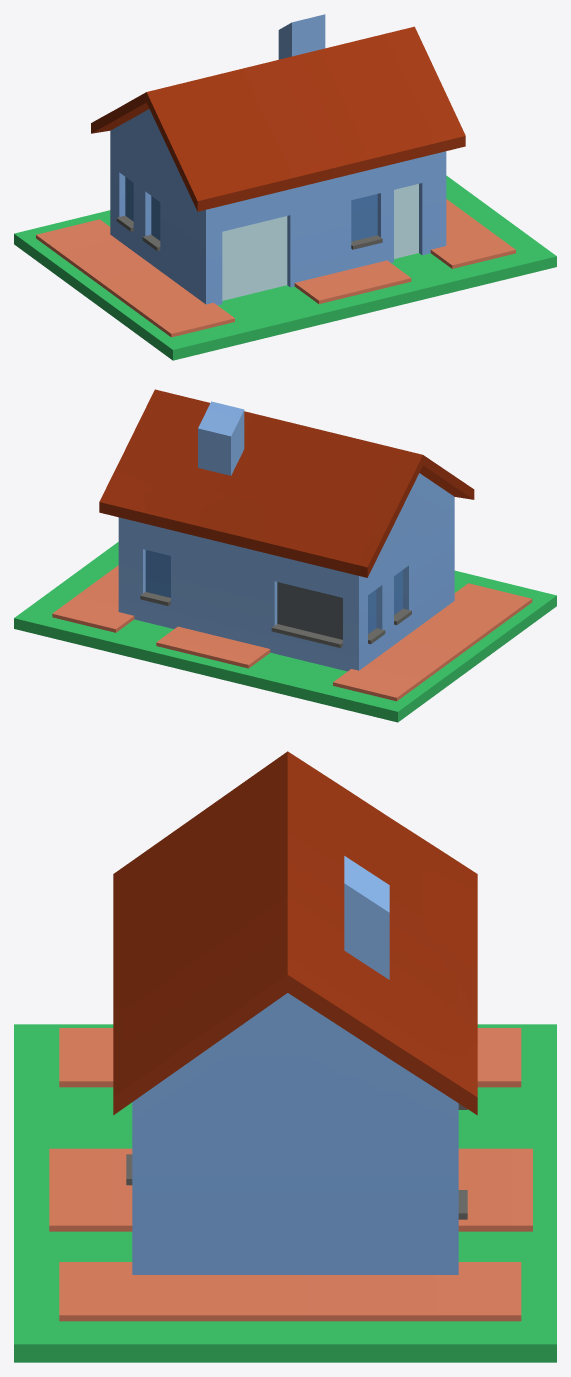
File: Outer House9.fbx
3 views of the same model, one above another, from view 1: azimuth 30°, elevation 25°; view 2: azimuth 150°, elevation 25°; view 3: azimuth 270°, elevation 25° (orthographic). The views are drawn at different scales.
Parts seen in each view (by area): view 1: Outer_House9; view 2: Outer_House9; view 3: Outer_House9.
Part boxes in pixels (x1=…): Outer_House9: x1=14, y1=14, x2=556, y2=360; Outer_House9: x1=14, y1=389, x2=556, y2=722; Outer_House9: x1=14, y1=751, x2=556, y2=1362.
Bounding box in the file's own units: 1004 × 537 × 720.
Materials: 1 (1 with a texture image).
